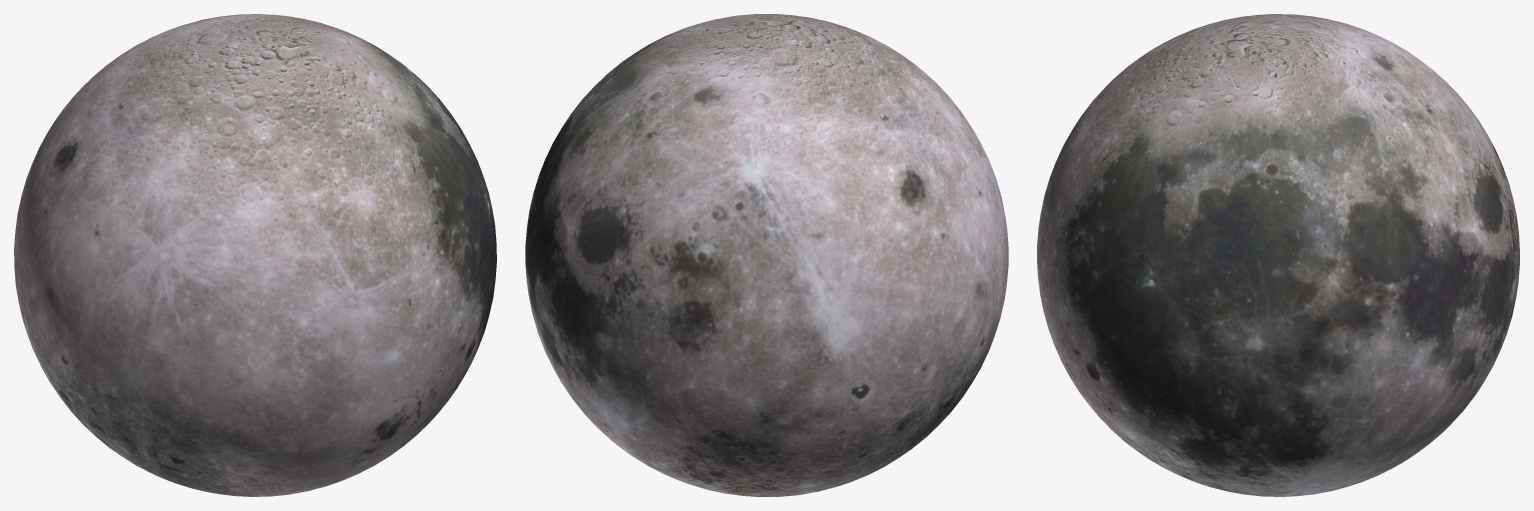
The model's file is luna.glb.
The picture shows the model from 3 angles, left to right: view 1: azimuth 30°, elevation 25°; view 2: azimuth 150°, elevation 25°; view 3: azimuth 270°, elevation 25°; orthographic projection.
Parts seen in each view (by area): view 1: Sphere; view 2: Sphere; view 3: Sphere.
Part boxes in pixels (left/top/right/bottom): Sphere: left=14, top=14, right=496, bottom=496; Sphere: left=525, top=14, right=1008, bottom=496; Sphere: left=1037, top=14, right=1519, bottom=496.
Bounding box in the file's own units: 580 × 580 × 581.
Materials: 1 (1 with a texture image).
